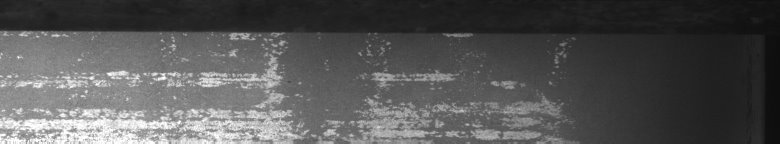kb: (4, 24, 576, 136)
